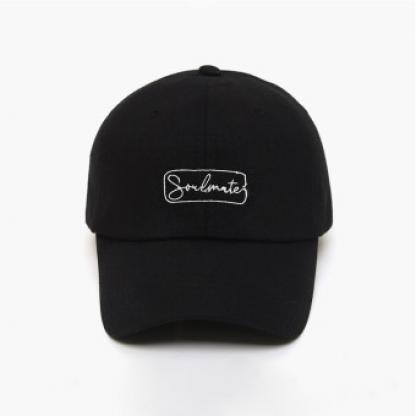cap: (71, 58, 340, 356)
